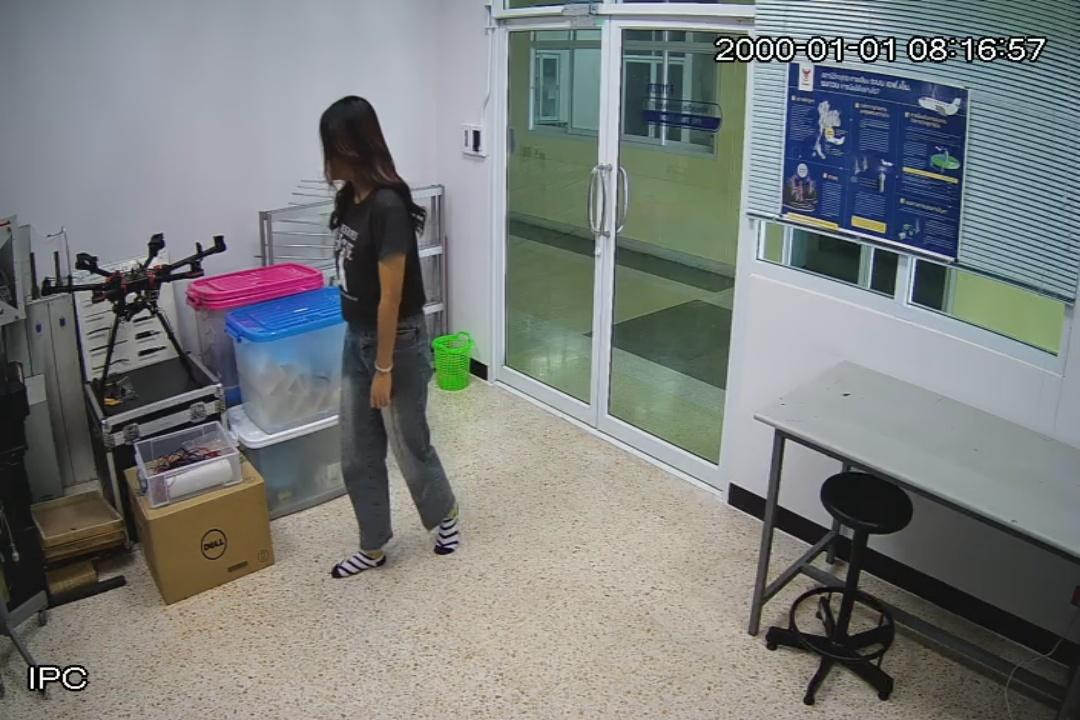normal: (313, 94, 457, 566)
